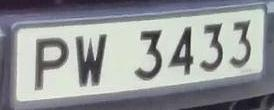3: (131, 23, 168, 83), (196, 16, 230, 75), (227, 16, 257, 74)
4: (164, 21, 200, 80)
P: (29, 30, 72, 94)
W: (70, 29, 114, 94)
